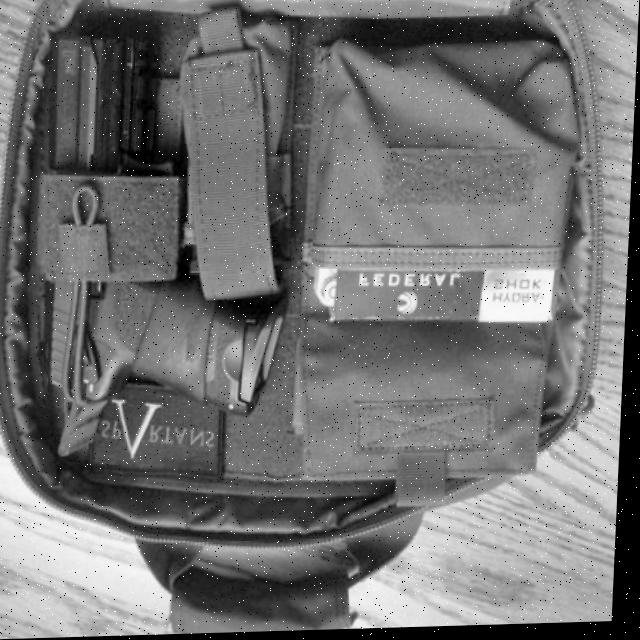pistol: (38, 23, 299, 424)
